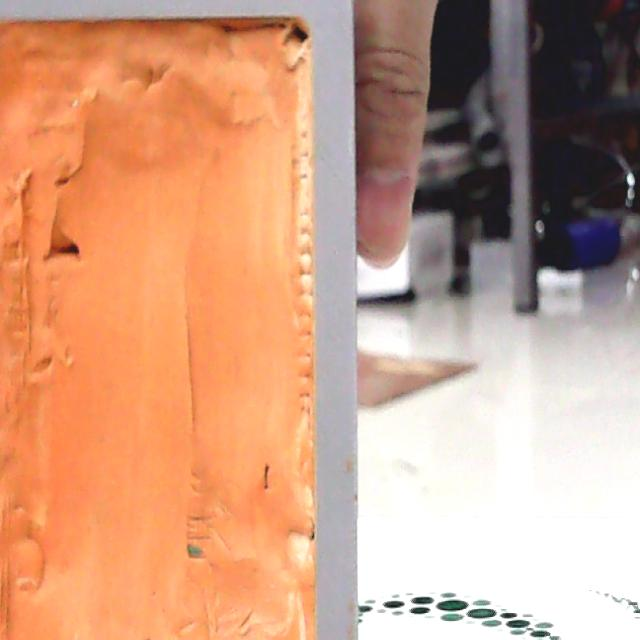block: (0, 0, 377, 640)
